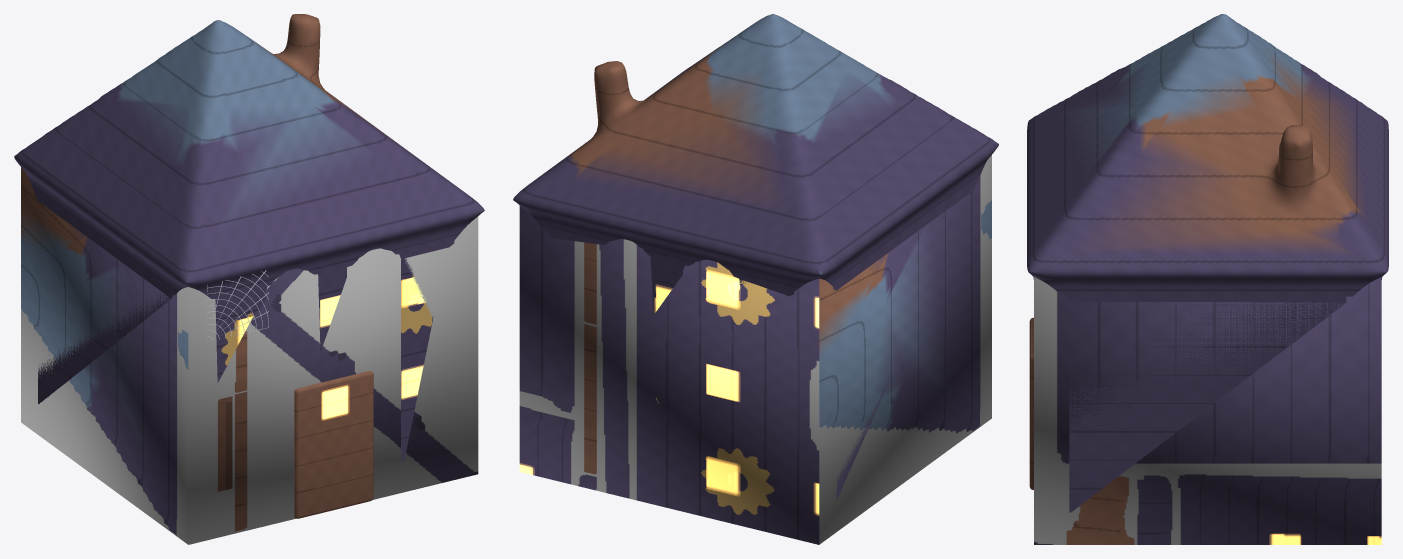
Rendered from house_gear.glb.
3 views of the same model, side by side, from view 1: azimuth 30°, elevation 25°; view 2: azimuth 150°, elevation 25°; view 3: azimuth 270°, elevation 25° (orthographic). The views are drawn at different scales.
Parts seen in each view (by area): view 1: col, lod0, door, cobweb; view 2: col, lod0; view 3: lod0, col, door.
Boxes of the visible parts, x1,y1,x2,y2 form: col: (21,167,478,544); lod0: (14,14,484,461); door: (294,371,373,518); cobweb: (207,270,268,340); col: (519,155,991,544); lod0: (513,14,998,499); lod0: (1027,14,1388,512); col: (1034,277,1381,544); door: (1029,317,1033,489).
Size of what is drawn, in the model's own units: 7.28 by 9.87 by 7.28.
2 materials, 2 textured.
